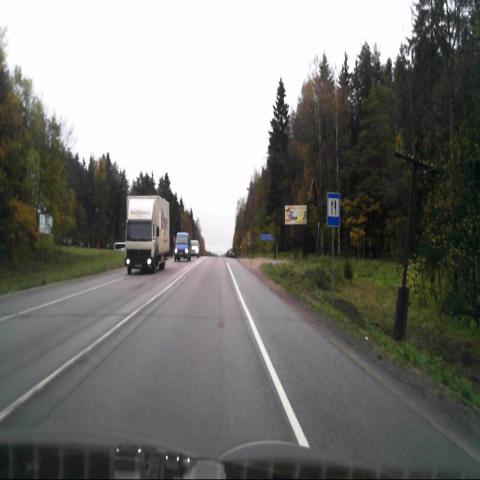7_7: (326, 193, 340, 226)
